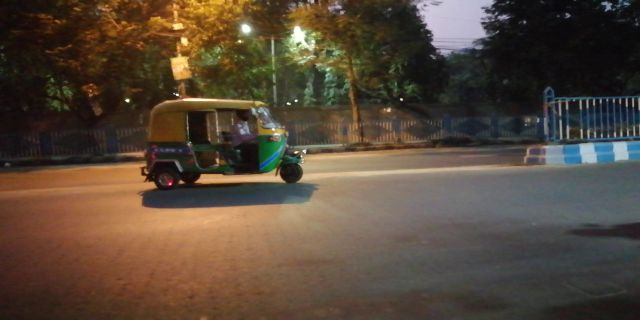Autorickshaw: (137, 99, 303, 191)
